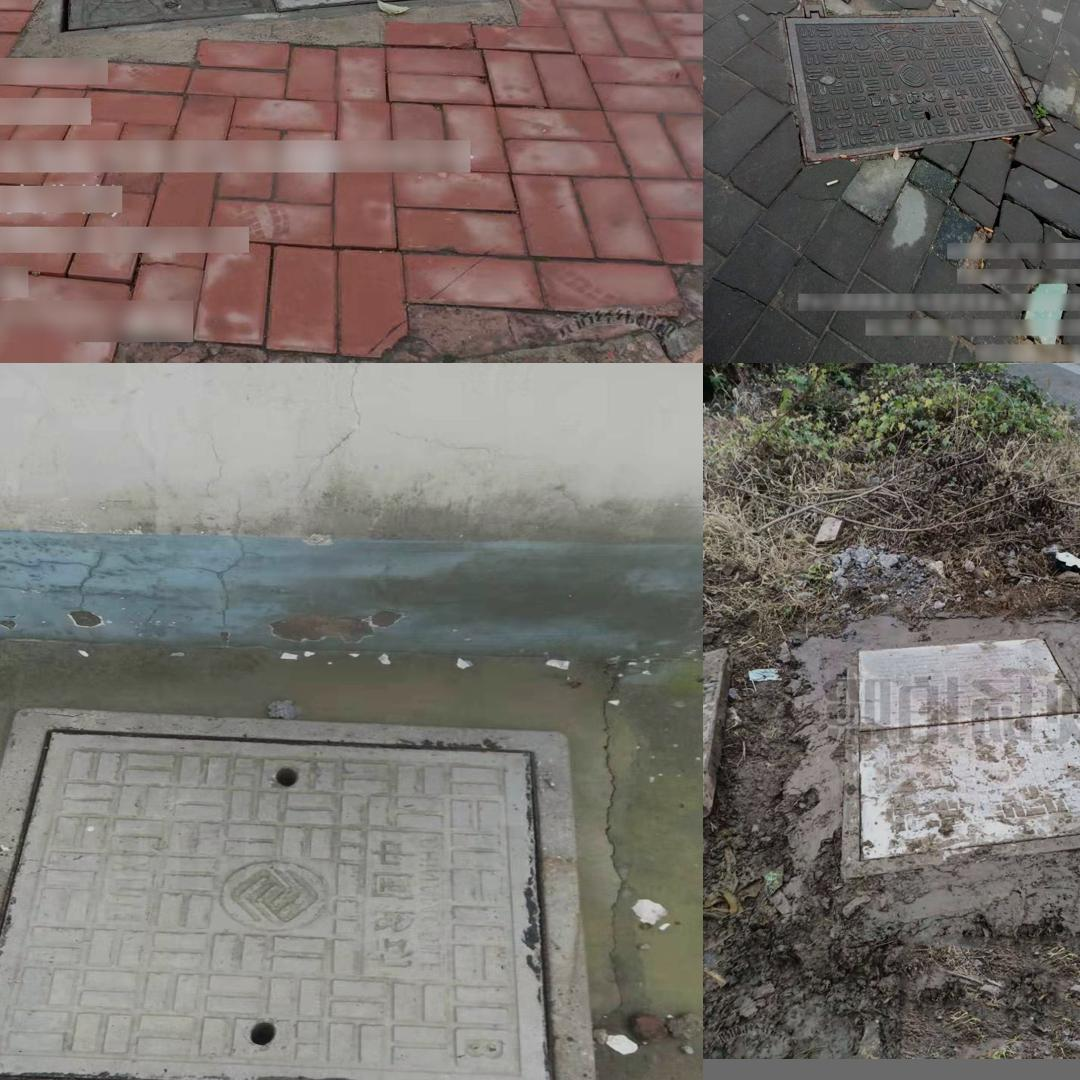good: (0, 703, 602, 1080), (840, 629, 1080, 878), (781, 1, 1042, 165), (52, 0, 482, 23)
